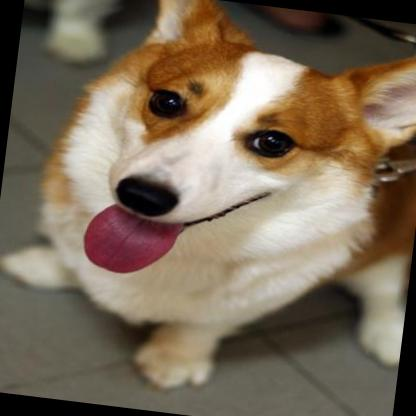Pembroke: (0, 0, 416, 413)
